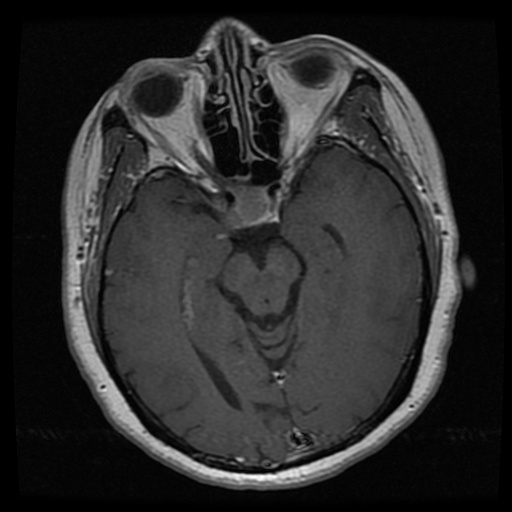pituitary: (226, 185, 278, 227)
